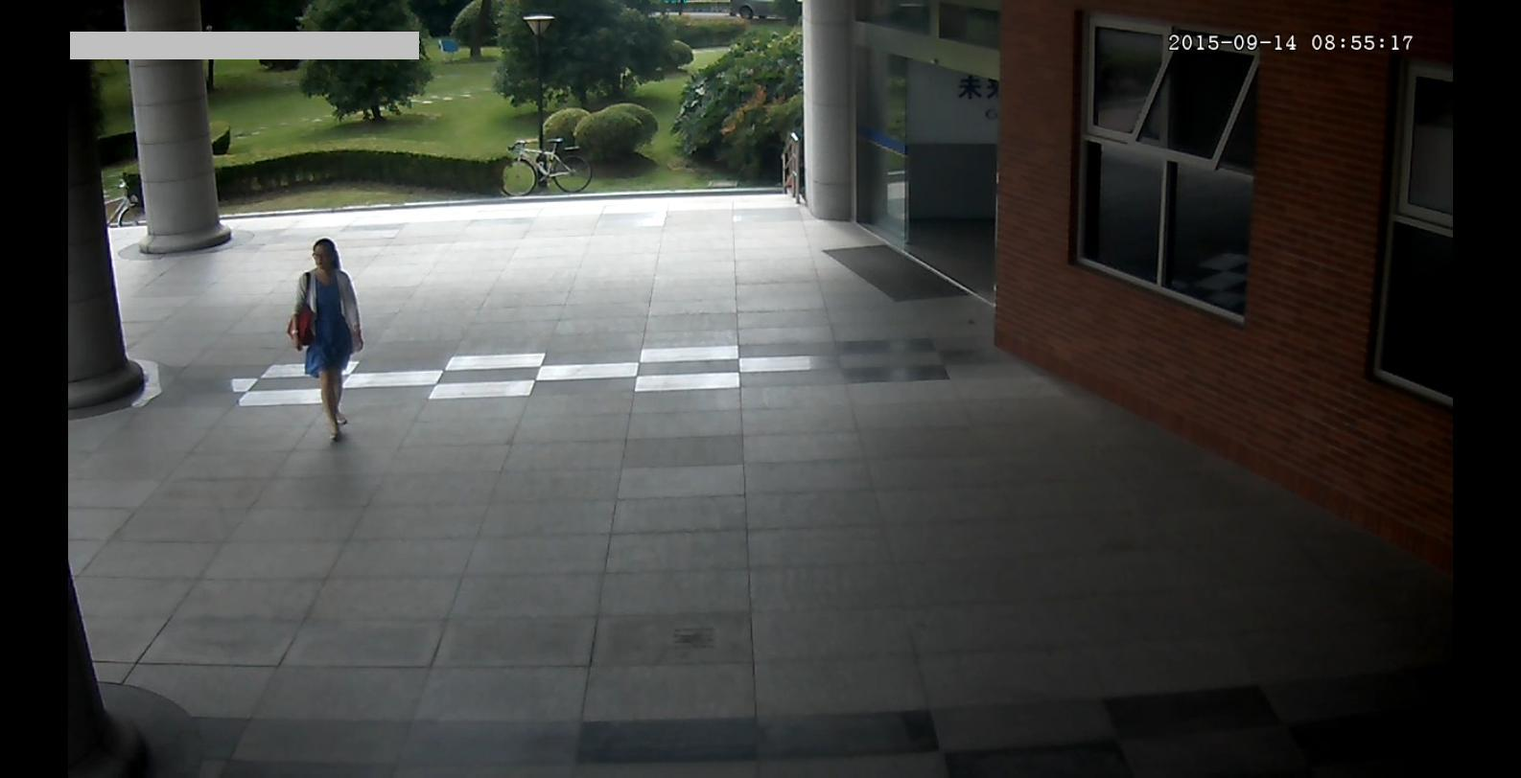person: (285, 232, 378, 455)
